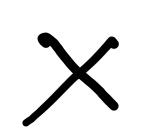mult: (23, 32, 119, 126)
